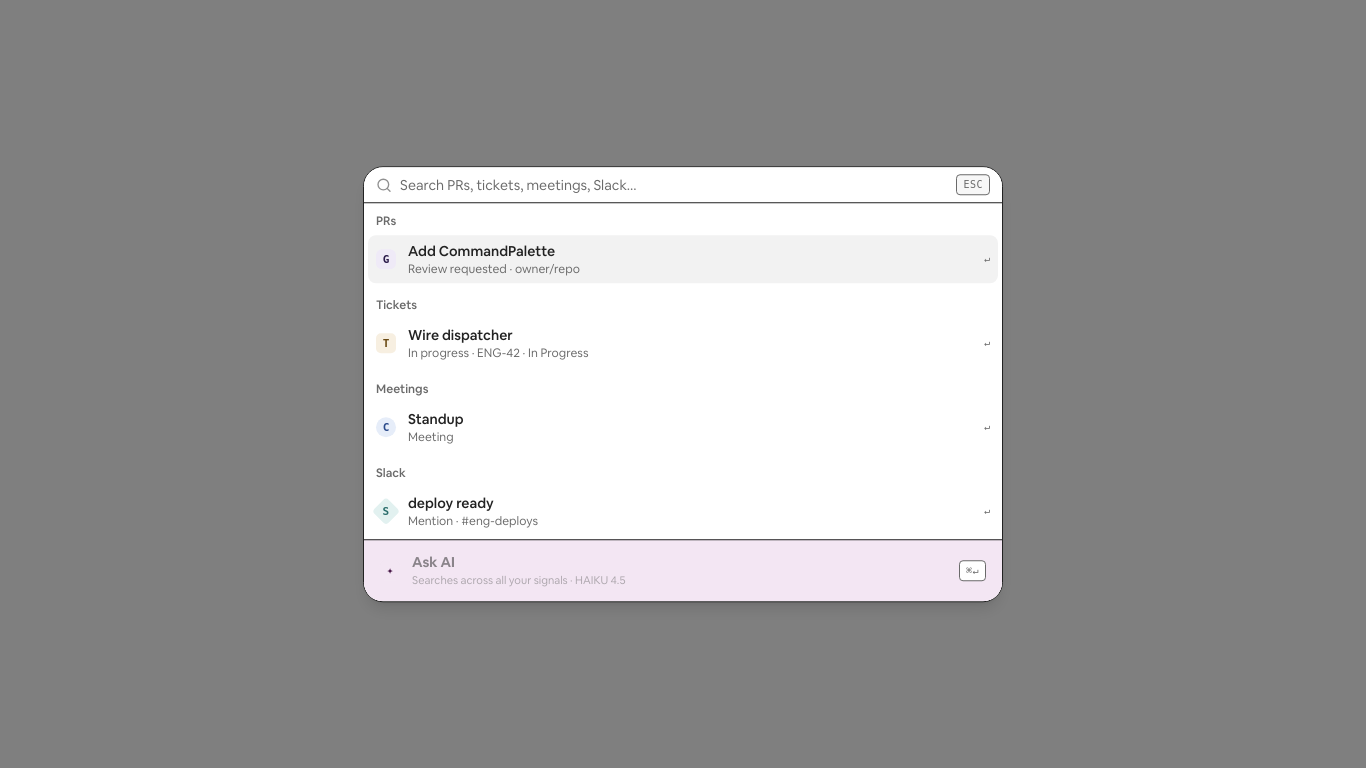
Test: CommandPalette › typing filters results across groups
The width and height of the screenshot is (1366, 768).
Expected: the text "Add CommandPalette" is shown, [408,242,555,260]
Type "deploy" into the dropdown named "search signals". click: [674, 185]
box: [400,165,948,205]
Wait 150 ms
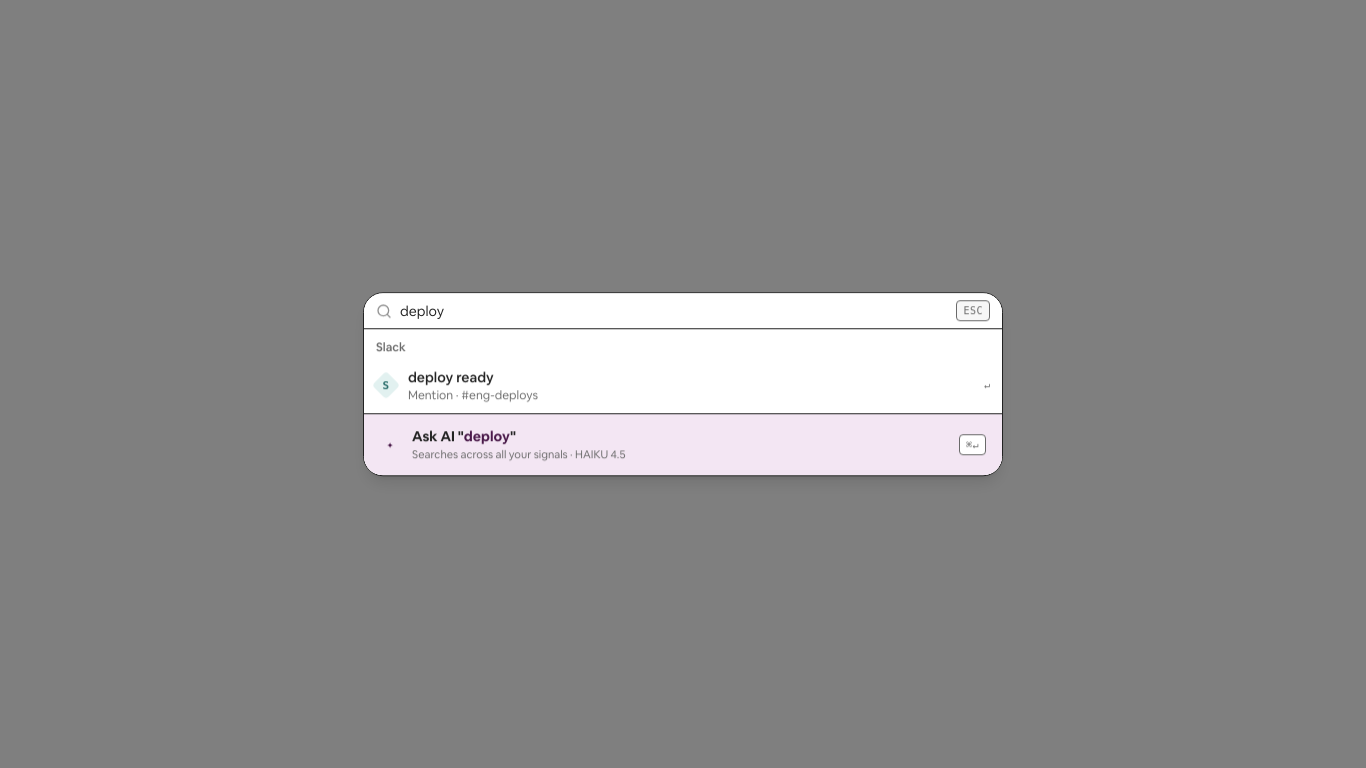
Expected: the option "Add CommandPalette" is gone
Expected: the option "Wire dispatcher" is gone
Expected: the option "Standup" is gone
